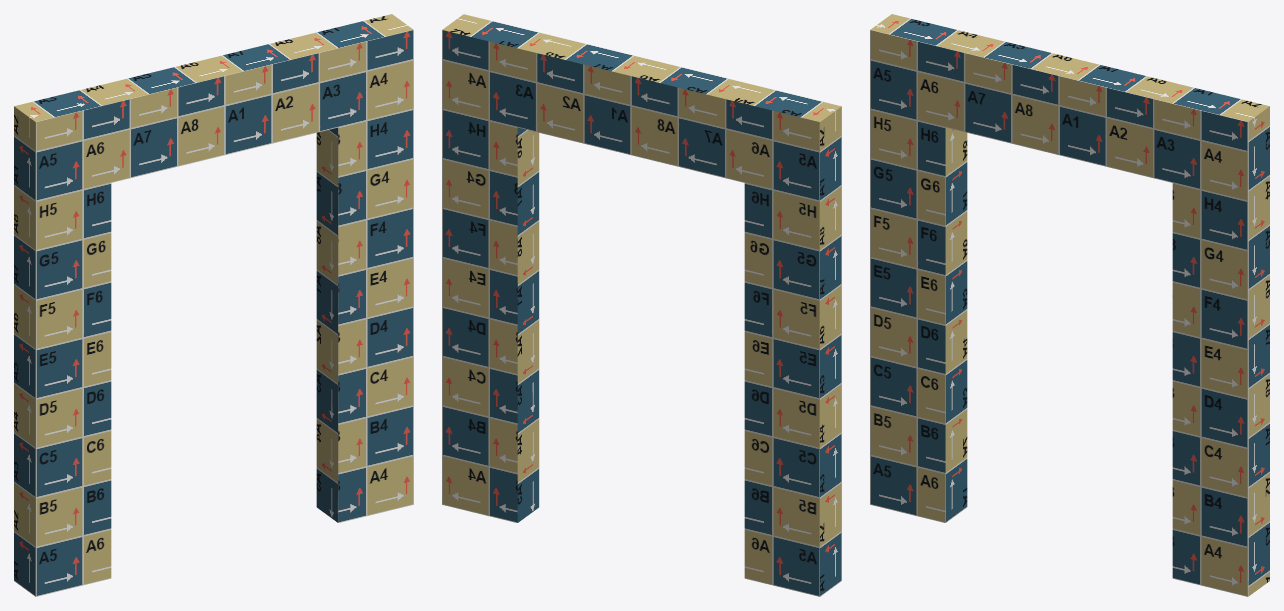
Rendered from DOORWAY_Standard.fbx.
3 views of the same model, side by side, from view 1: azimuth 30°, elevation 25°; view 2: azimuth 150°, elevation 25°; view 3: azimuth 330°, elevation 25° (orthographic).
Parts seen in each view (by area): view 1: DOORWAY_Standard; view 2: DOORWAY_Standard; view 3: DOORWAY_Standard.
Part boxes in pixels (x1,y1,x2,y2): DOORWAY_Standard: (14,14,413,596); DOORWAY_Standard: (442,14,841,596); DOORWAY_Standard: (870,14,1269,596).
Size of the model in its own units: 200 by 240 by 20.
1 material, 1 textured.
